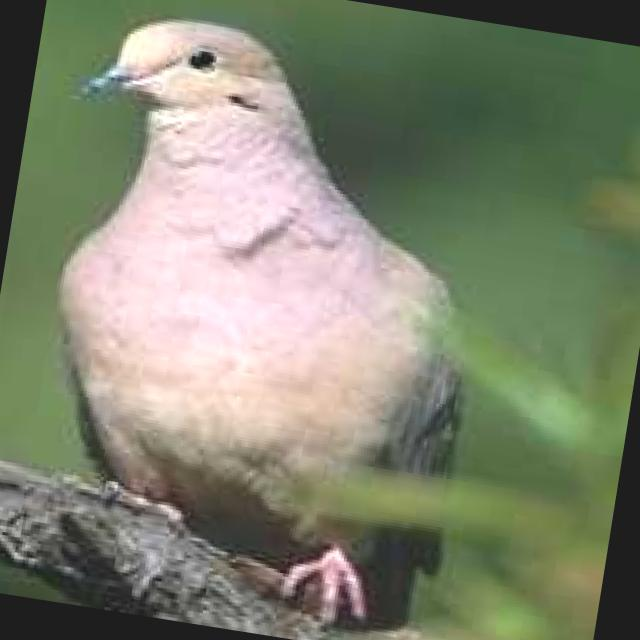bird: (0, 0, 533, 640)
